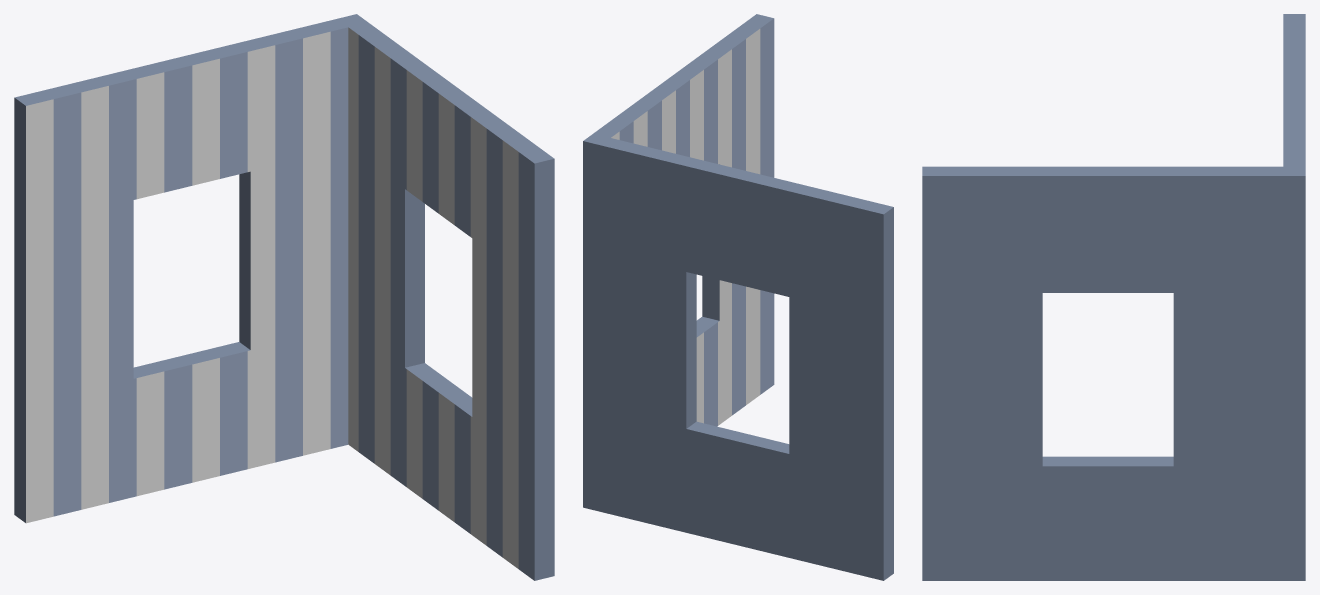
File: Wall3_C8_09.fbx
The picture shows the model from 3 angles, left to right: view 1: azimuth 30°, elevation 25°; view 2: azimuth 150°, elevation 25°; view 3: azimuth 270°, elevation 25°; orthographic projection. The views are drawn at different scales.
Parts seen in each view (by area): view 1: Wall3_C8_09; view 2: Wall3_C8_09; view 3: Wall3_C8_09.
Boxes of the visible parts, x1=… form: Wall3_C8_09: x1=14, y1=14, x2=554, y2=580; Wall3_C8_09: x1=583, y1=14, x2=893, y2=580; Wall3_C8_09: x1=922, y1=14, x2=1305, y2=580.
Bounding box in the file's own units: 258 × 300 × 258.
